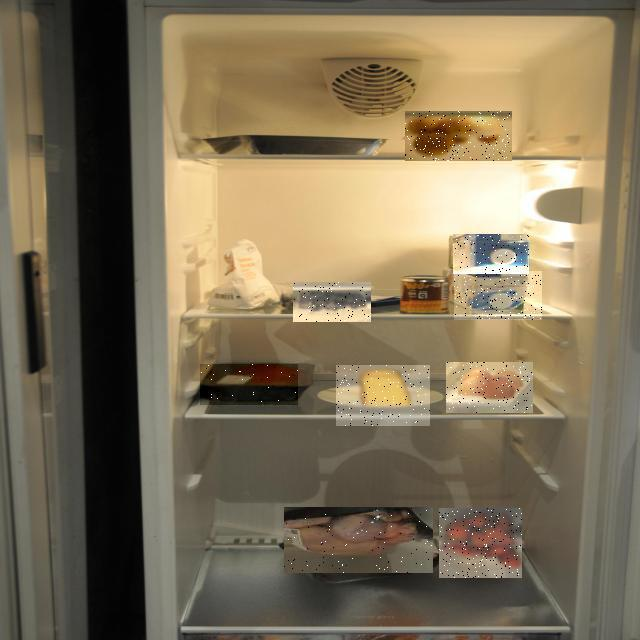Cheese: (336, 365, 430, 426)
Eggs: (446, 362, 533, 413)
Meat: (284, 507, 433, 573), (200, 364, 298, 405)
Milk: (454, 271, 542, 320), (453, 234, 529, 274)
Olives: (293, 282, 371, 322)
Potatoes: (405, 111, 512, 161)
Tomatoes: (439, 508, 522, 578)
